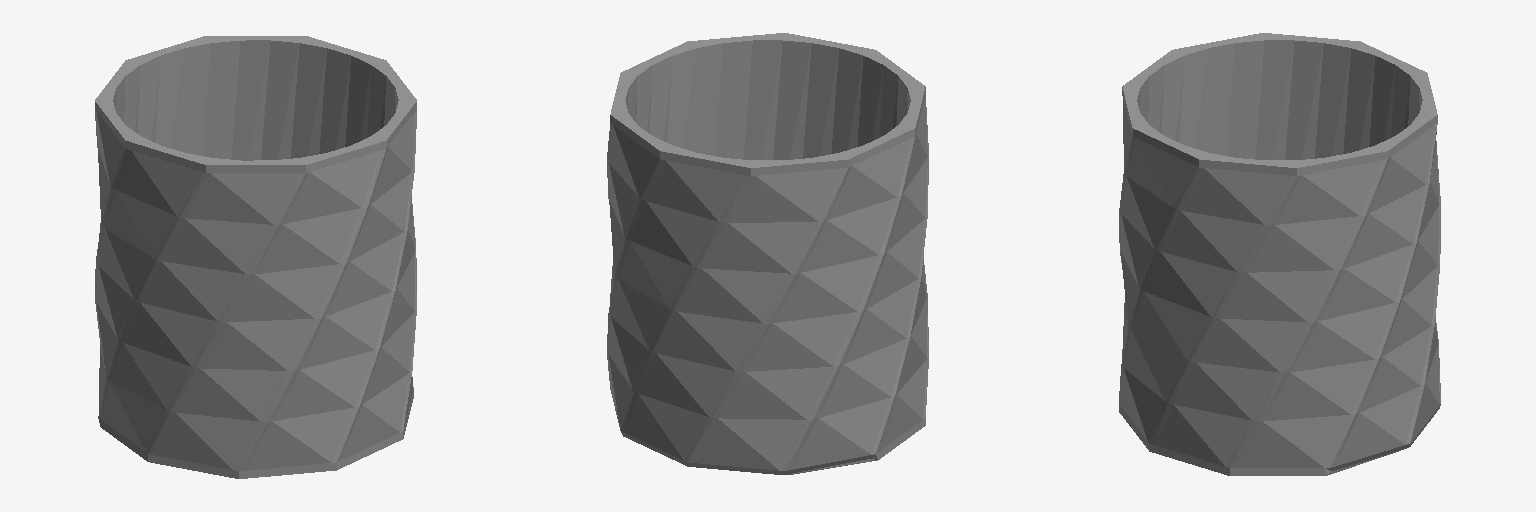
Rendered from Cup_3.obj.
3 renders of one model, left to right at view 1: azimuth 30°, elevation 25°; view 2: azimuth 150°, elevation 25°; view 3: azimuth 270°, elevation 25°, orthographic.
Visible parts, largest first — view 1: Cup_3_Cylinder.003; view 2: Cup_3_Cylinder.003; view 3: Cup_3_Cylinder.003.
Boxes of the visible parts, box(x1,y1,x2,y2) form: Cup_3_Cylinder.003: box(95, 36, 416, 478); Cup_3_Cylinder.003: box(607, 33, 928, 474); Cup_3_Cylinder.003: box(1119, 33, 1440, 475).
Bounding box in the file's own units: 0.0939 × 0.1 × 0.094.